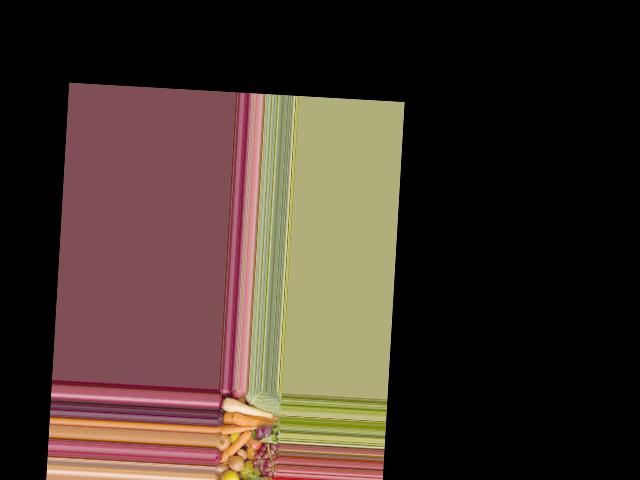carrot: (229, 416, 274, 426)
